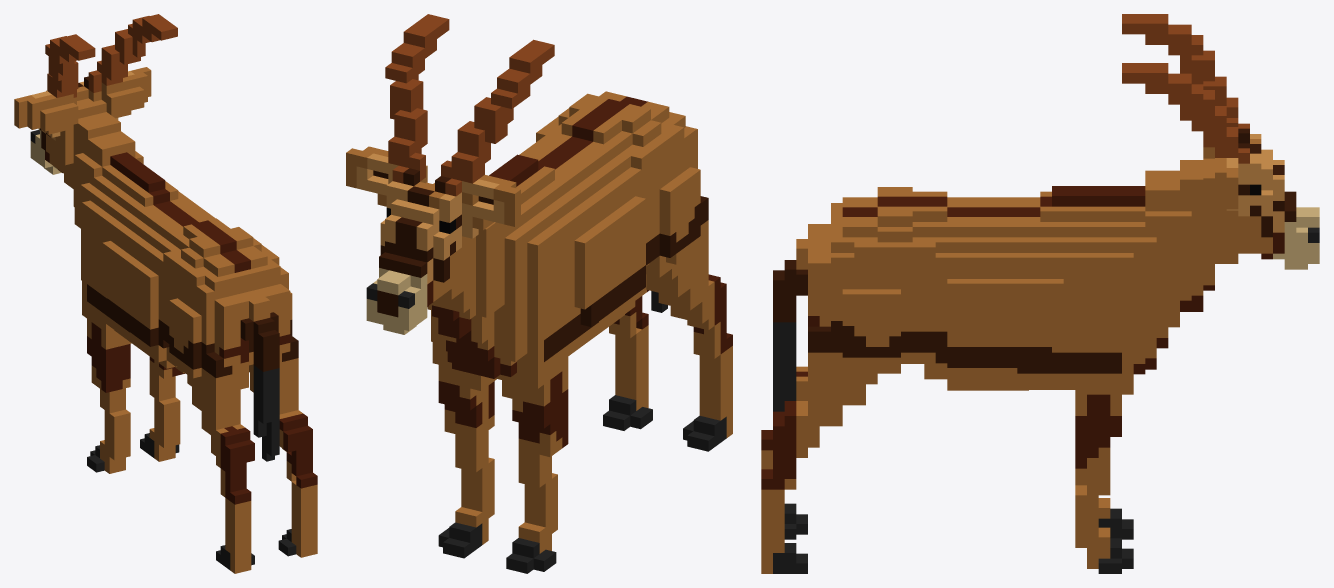
File: beisa_oryx.glb
The picture shows the model from 3 angles, left to right: view 1: azimuth 30°, elevation 25°; view 2: azimuth 150°, elevation 25°; view 3: azimuth 270°, elevation 25°; orthographic projection. The views are drawn at different scales.
Bounding box in the file's own units: 0.32 × 0.96 × 0.96.
